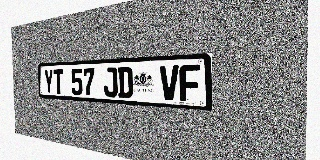5: (71, 68, 83, 96)
7: (83, 68, 95, 96)
D: (118, 67, 133, 98)
F: (179, 64, 200, 102)
J: (104, 67, 118, 97)
T: (53, 69, 64, 94)
V: (160, 65, 179, 101)
Y: (44, 69, 54, 94)
